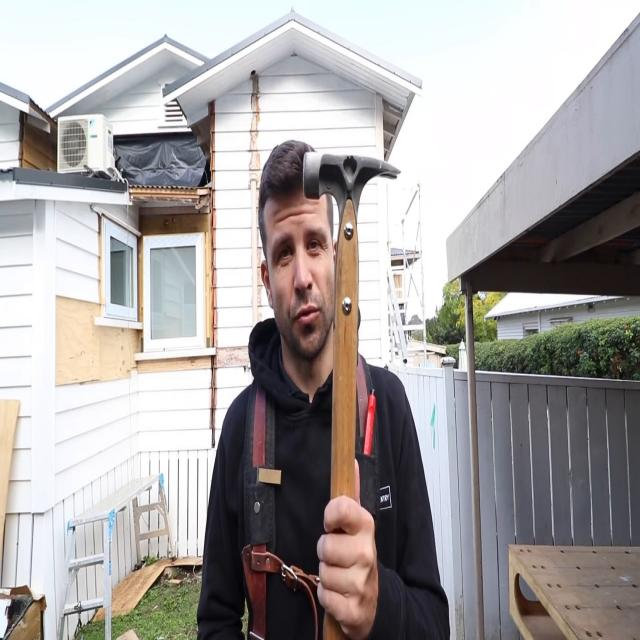hammer: (302, 150, 400, 640)
